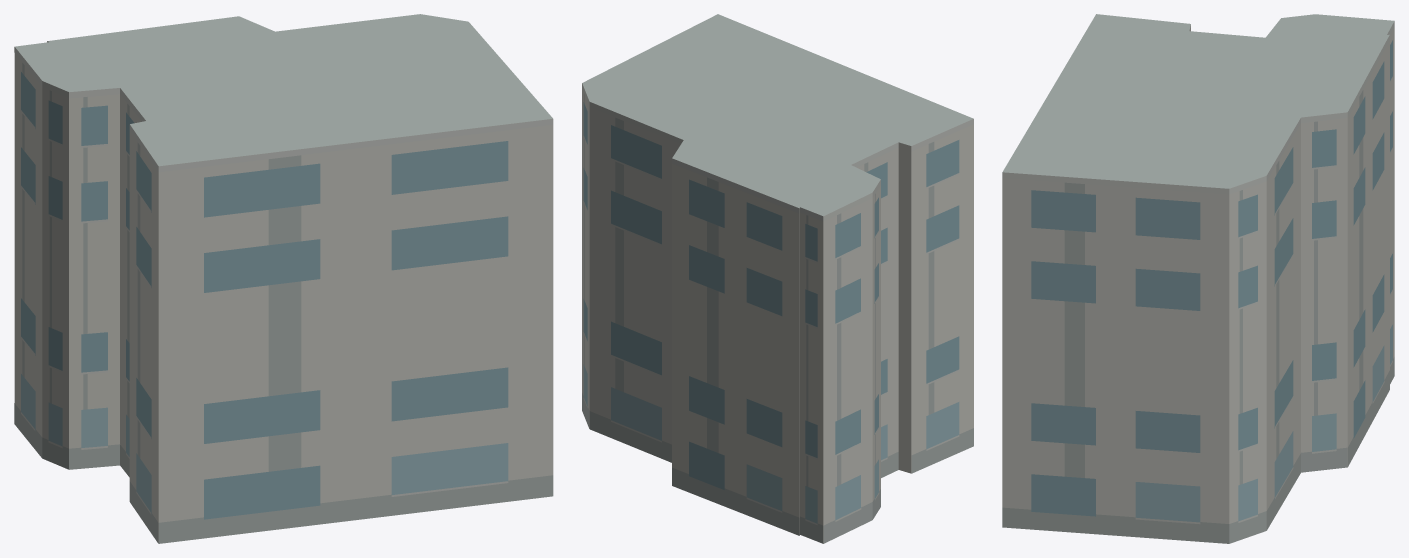
Rendered from survey-upis-32883186.glb.
3 renders of one model, left to right at view 1: azimuth 30°, elevation 25°; view 2: azimuth 150°, elevation 25°; view 3: azimuth 270°, elevation 25°, orthographic. The views are drawn at different scales.
Parts seen in each view (by area): view 1: survey-upis-32883186.tmp; view 2: survey-upis-32883186.tmp; view 3: survey-upis-32883186.tmp.
Part boxes in pixels (x1,y1,x2,y2): survey-upis-32883186.tmp: [14, 14, 553, 543]; survey-upis-32883186.tmp: [582, 14, 973, 543]; survey-upis-32883186.tmp: [1002, 14, 1394, 543].
Bounding box in the file's own units: 15.68 × 14.85 × 14.88.
